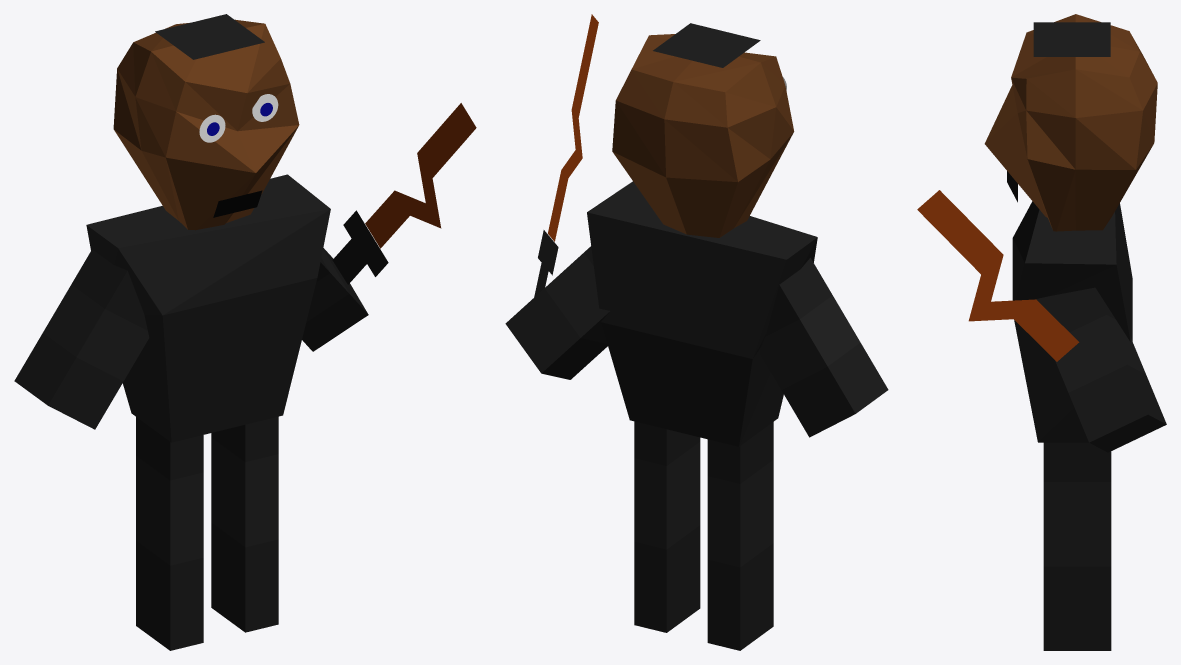
The model's file is swordsman2f.obj.
The picture shows the model from 3 angles, left to right: view 1: azimuth 30°, elevation 25°; view 2: azimuth 150°, elevation 25°; view 3: azimuth 270°, elevation 25°; orthographic projection. The views are drawn at different scales.
Visible parts, largest first — view 1: Cube.001, Cube, Cube.004, Cube.005, Cube.003, Plane.003_Plane.004, Cube.002, Plane.004_Plane.001, Plane.002_Plane.003, Plane.001_Plane.002, Plane; view 2: Cube.001, Cube, Cube.004, Cube.005, Cube.003, Cube.002, Plane.004_Plane.001, Plane.003_Plane.004, Plane.002_Plane.003; view 3: Cube, Cube.005, Cube.001, Cube.002, Plane.003_Plane.004, Plane.004_Plane.001.
Part boxes in pixels (left/top/right/bottom): Cube.001: left=86, top=174, right=330, bottom=442; Cube: left=113, top=19, right=299, bottom=230; Cube.004: left=136, top=417, right=203, bottom=650; Cube.005: left=211, top=416, right=278, bottom=632; Cube.003: left=14, top=249, right=149, bottom=429; Plane.003_Plane.004: left=365, top=103, right=476, bottom=248; Cube.002: left=302, top=248, right=368, bottom=351; Plane.004_Plane.001: left=155, top=14, right=264, bottom=59; Plane.002_Plane.003: left=343, top=210, right=388, bottom=276; Plane.001_Plane.002: left=332, top=238, right=366, bottom=284; Plane: left=213, top=190, right=262, bottom=217; Cube.001: left=587, top=181, right=817, bottom=446; Cube: left=612, top=34, right=794, bottom=237; Cube.004: left=707, top=422, right=773, bottom=650; Cube.005: left=634, top=421, right=700, bottom=632; Cube.003: left=760, top=258, right=888, bottom=437; Cube.002: left=505, top=246, right=609, bottom=379; Plane.004_Plane.001: left=653, top=23, right=760, bottom=67; Plane.003_Plane.004: left=548, top=14, right=598, bottom=241; Plane.002_Plane.003: left=538, top=230, right=558, bottom=275; Cube: left=984, top=14, right=1157, bottom=231; Cube.005: left=1043, top=442, right=1111, bottom=650; Cube.001: left=1012, top=201, right=1132, bottom=442; Cube.002: left=1034, top=287, right=1166, bottom=452; Plane.003_Plane.004: left=917, top=190, right=1079, bottom=361; Plane.004_Plane.001: left=1033, top=22, right=1110, bottom=56.
Bounding box in the file's own units: 3.77 × 5.87 × 2.27.
